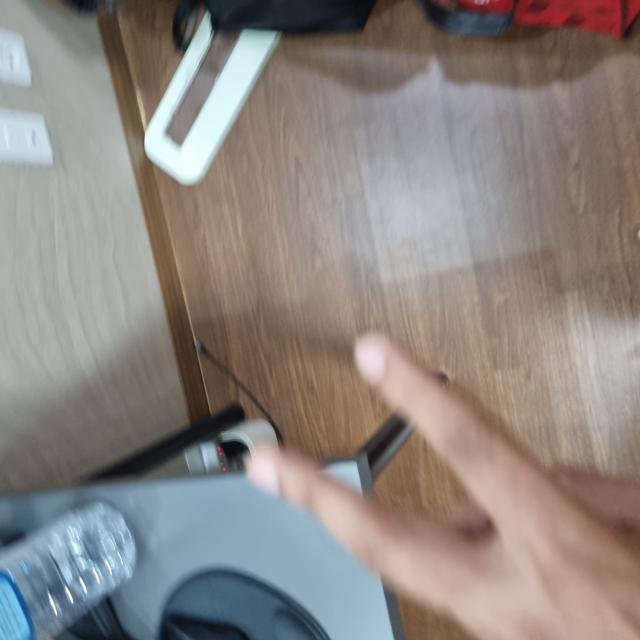Scissors: (0, 253, 303, 638)
